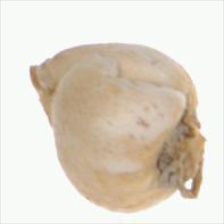L3: (27, 54, 60, 127)
L4: (29, 44, 203, 212)
